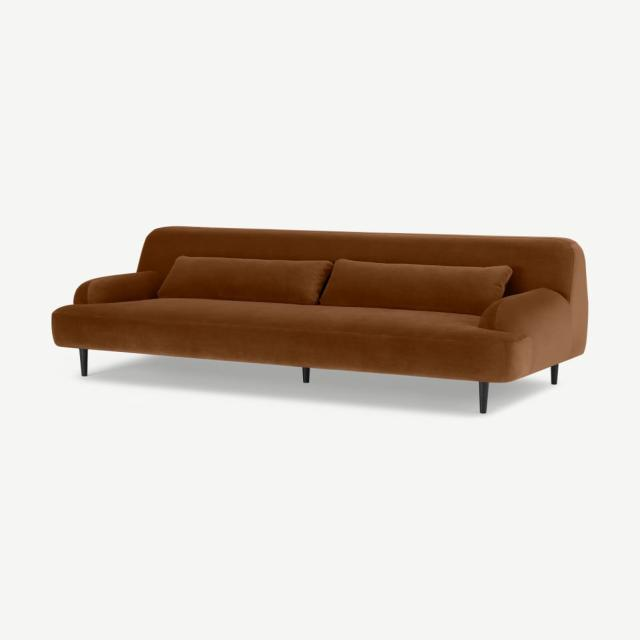Soffa: (56, 191, 596, 421)
